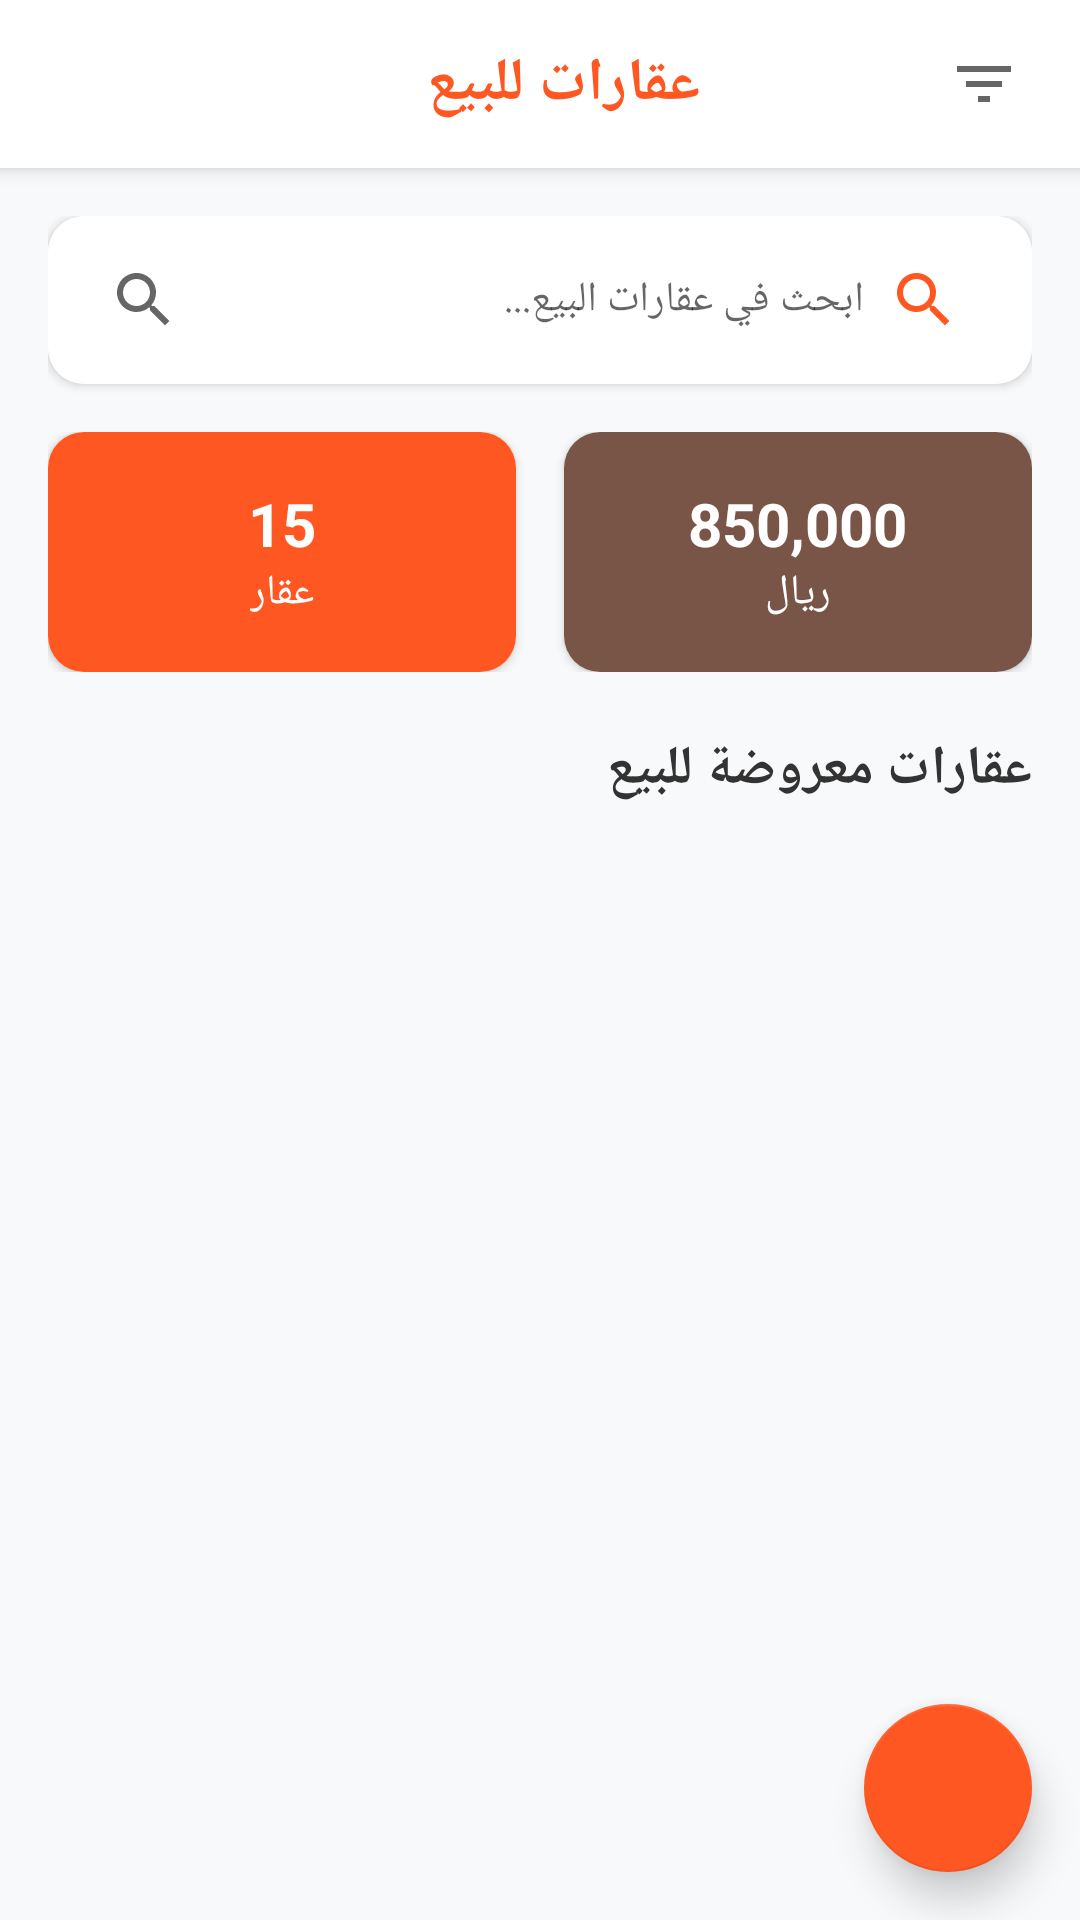

Named icons in this screenshot (1080w x 1920h) and their bounding boxes, detection(x1, y1, x2, y2):
search: detection(117, 273, 169, 325)
فلتر: detection(957, 66, 1011, 102)
